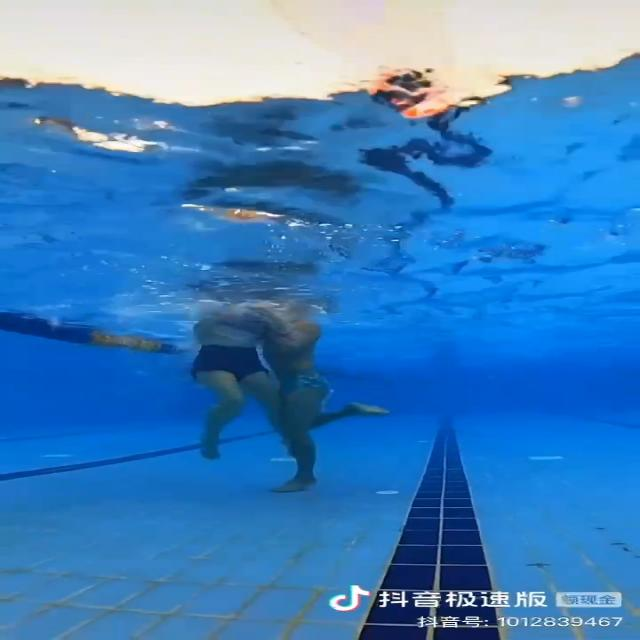Swimming: (271, 306, 382, 495), (190, 303, 276, 465)
